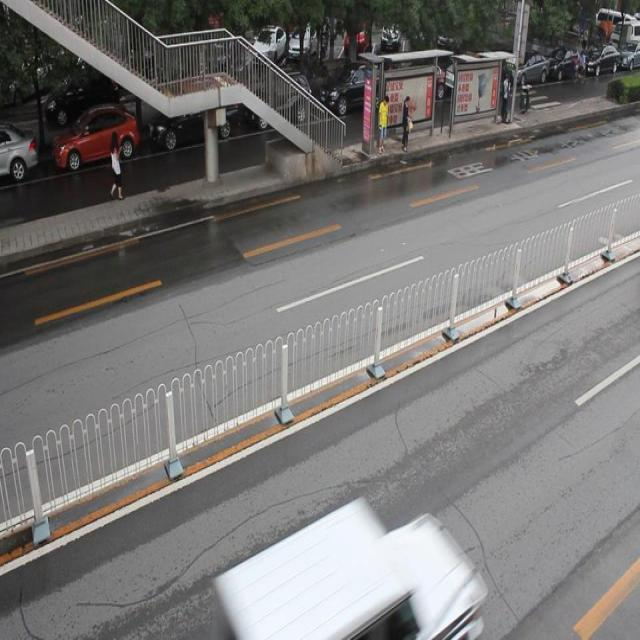car: (200, 495, 484, 640), (48, 105, 136, 172), (143, 91, 235, 145), (314, 61, 390, 119), (240, 72, 309, 132), (1, 124, 37, 182)
